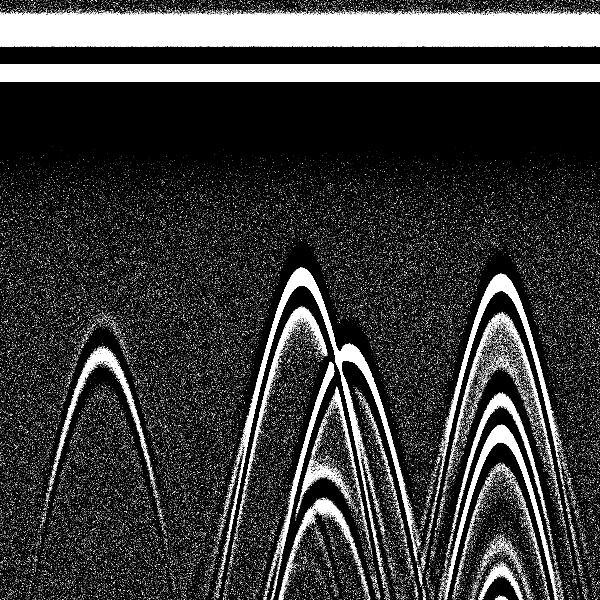pipe: (303, 6, 397, 425), (54, 5, 147, 417), (450, 7, 549, 365), (257, 7, 343, 346)
